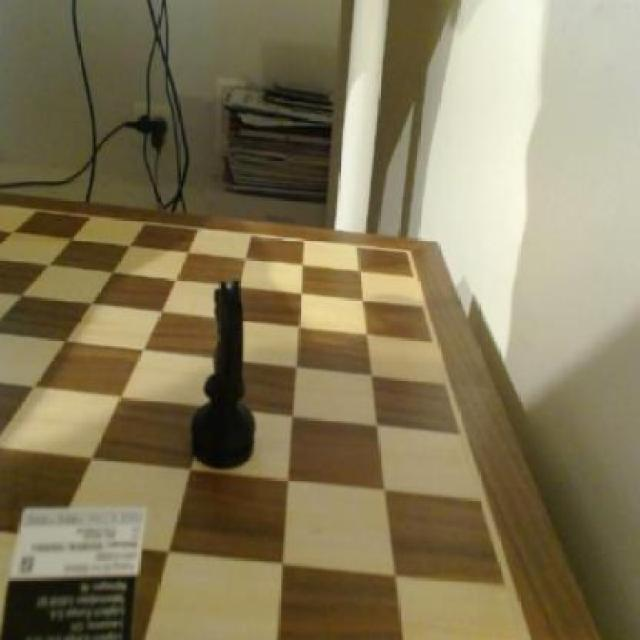black-king: (192, 273, 268, 482)
